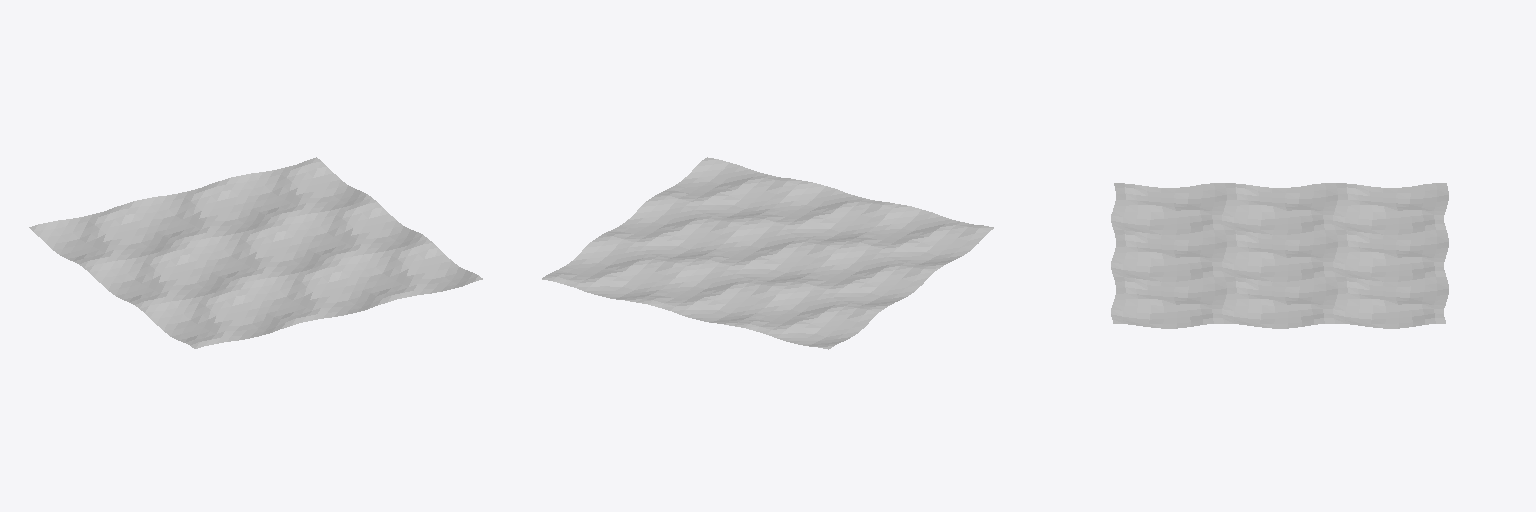
The model's file is ocean_000262.obj.
3 views of the same model, side by side, from view 1: azimuth 30°, elevation 25°; view 2: azimuth 150°, elevation 25°; view 3: azimuth 270°, elevation 25° (orthographic).
Visible parts, largest first — view 1: Ocean_Plan.001; view 2: Ocean_Plan.001; view 3: Ocean_Plan.001.
Part boxes in pixels (bbox=[...]): Ocean_Plan.001: bbox=[29, 157, 482, 348]; Ocean_Plan.001: bbox=[542, 157, 993, 349]; Ocean_Plan.001: bbox=[1111, 183, 1448, 328].
Bounding box in the file's own units: 109238 × 2468 × 110696.